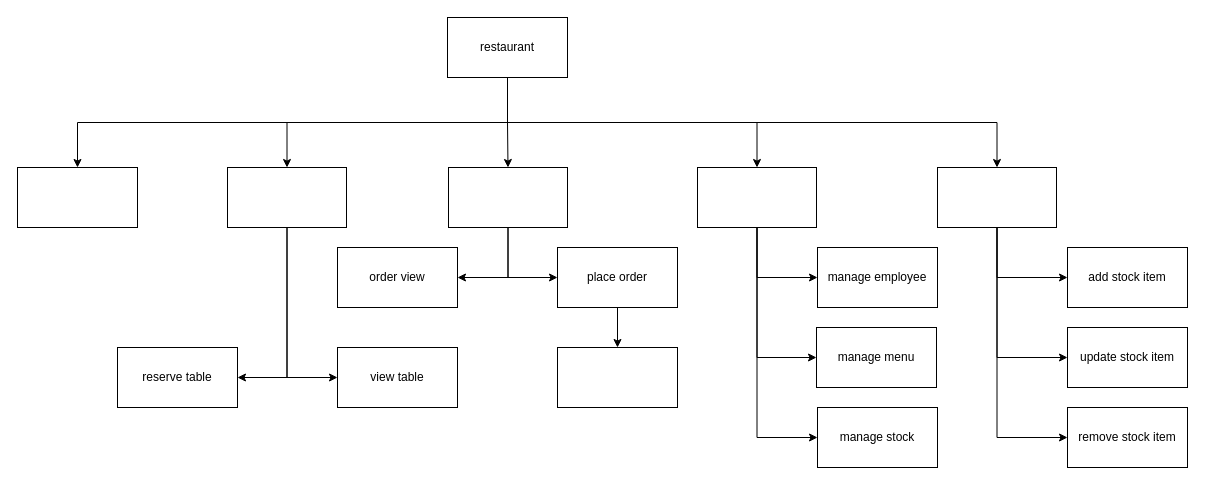
This 1205x485 diagram has some shape labels left out. Each missing label, with the box of its shape:
log in/log off: (16, 166, 138, 228)
manage: (696, 166, 816, 228)
order: (448, 166, 568, 228)
pay: (556, 346, 678, 408)
stock: (936, 166, 1056, 228)
table: (226, 166, 346, 228)
